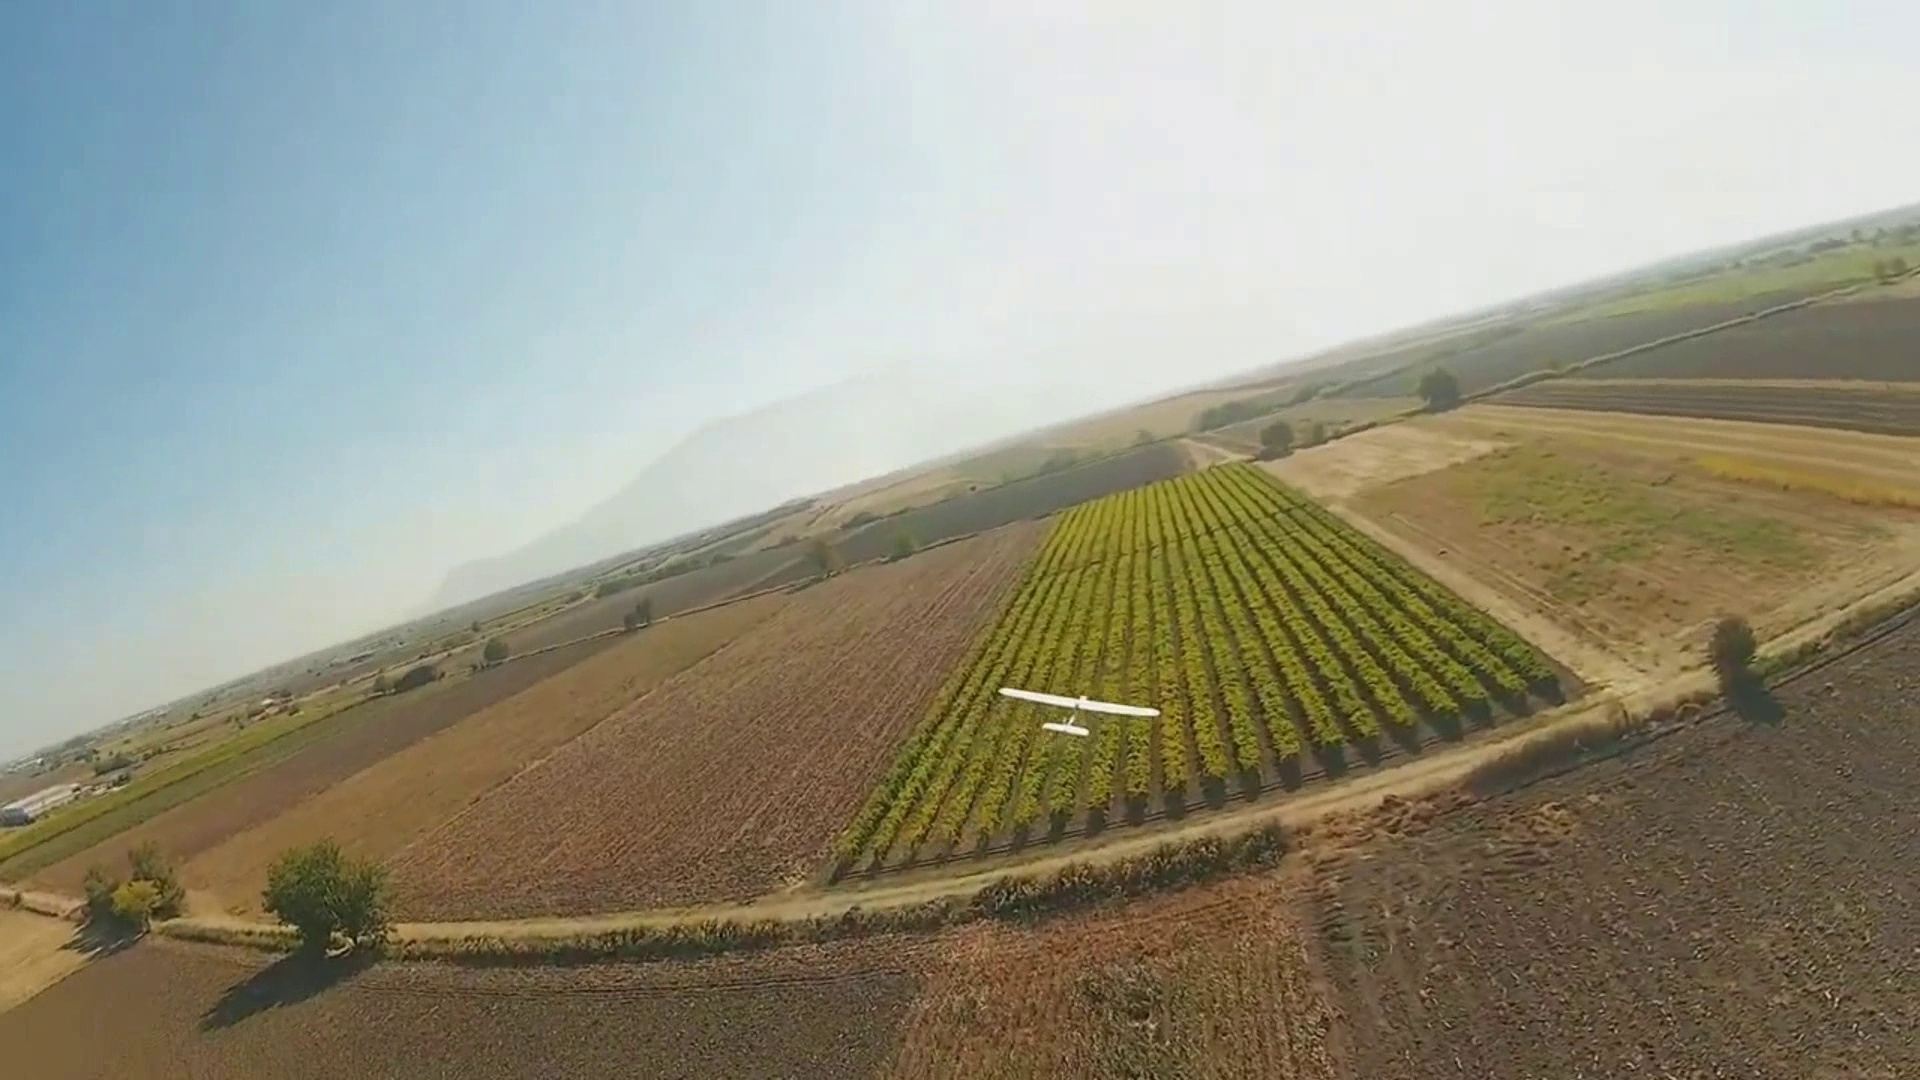airplane: (80, 191, 1917, 690)
